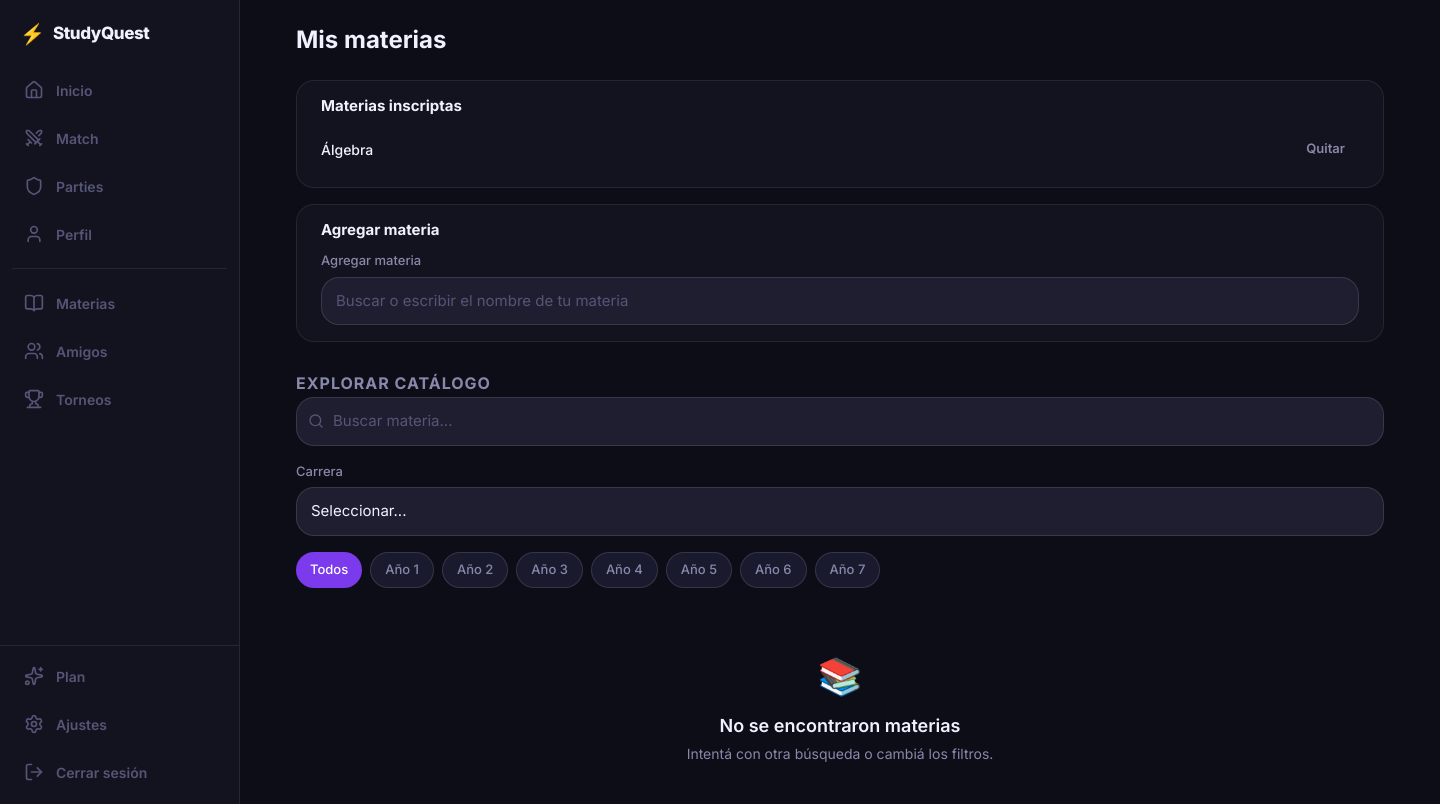
Test: SubjectExplorerPage › shows a CTA to set the university on UNIVERSITY_REQUIRED
The width and height of the screenshot is (1440, 804).
Type "anal" into the field labelled "Agregar materia" at coordinates (840, 301), box [321,276,1359,325]
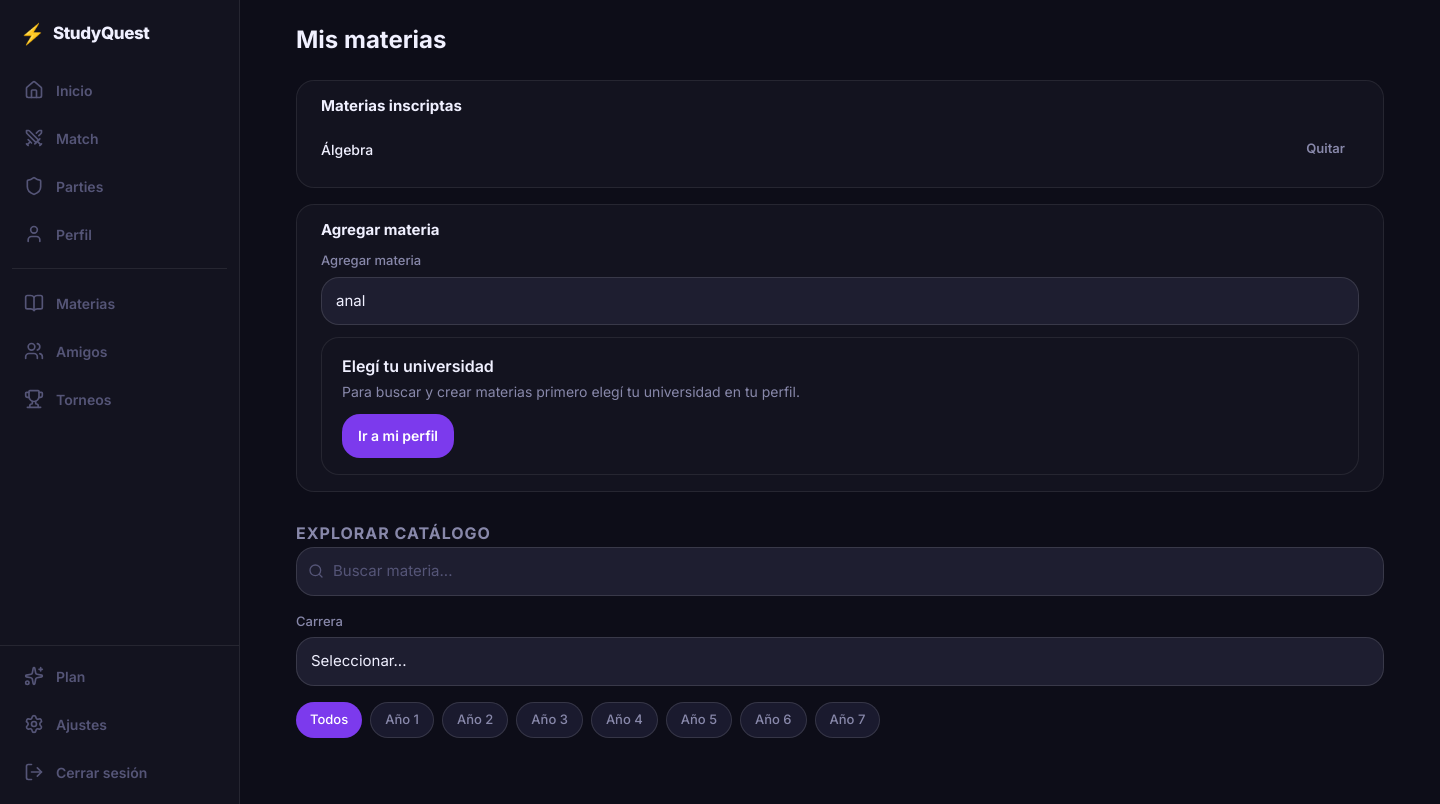
Check: the text "Elegí tu universidad" is shown, box [342,356,494,376]
Check: the button "Ir a mi perfil" is shown, box [342,414,454,458]
